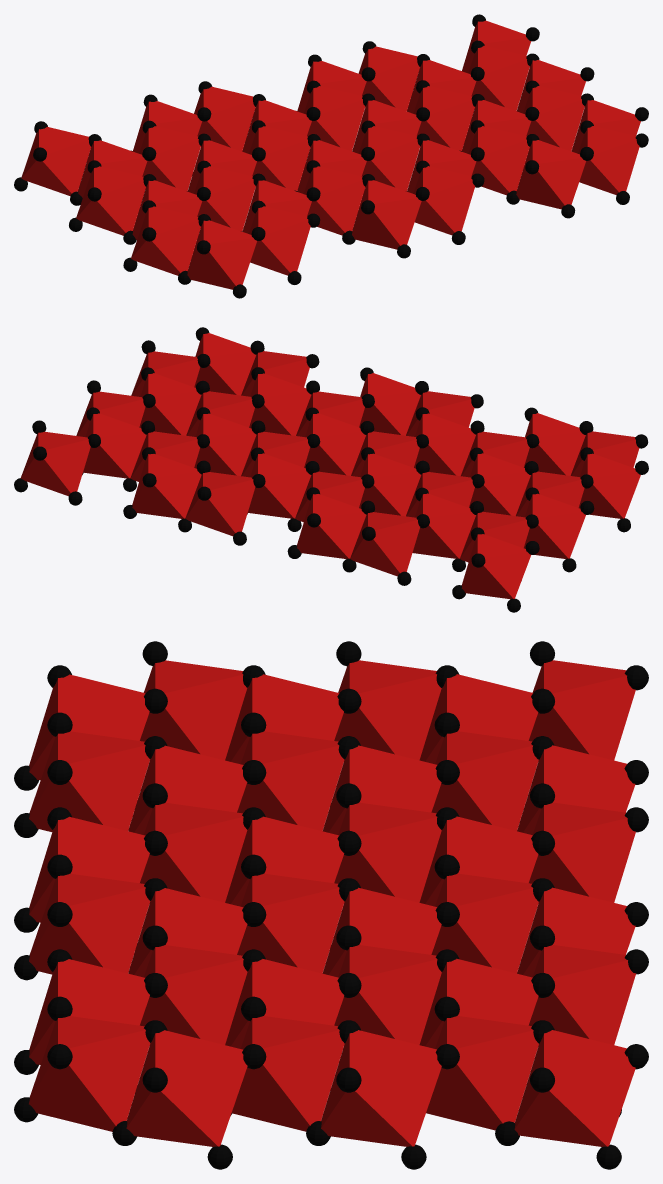
The model's file is Gibbsita.obj.
3 renders of one model, top to bottom at view 1: azimuth 30°, elevation 25°; view 2: azimuth 150°, elevation 25°; view 3: azimuth 270°, elevation 25°, orthographic. The views are drawn at different scales.
Visible parts, largest first — view 1: Gibbsita_Solid.585, Folha_hidroxila_2.001_Sphere.049, Folha_hidroxila_2.002_Sphere.050; view 2: Gibbsita_Solid.585, Folha_hidroxila_2.001_Sphere.049, Folha_hidroxila_2.002_Sphere.050; view 3: Gibbsita_Solid.585, Folha_hidroxila_2.001_Sphere.049, Folha_hidroxila_2.002_Sphere.050.
Boxes of the visible parts, <box> form: Gibbsita_Solid.585: <box>21,20,640,289</box>; Folha_hidroxila_2.001_Sphere.049: <box>33,14,648,254</box>; Folha_hidroxila_2.002_Sphere.050: <box>14,150,629,298</box>; Gibbsita_Solid.585: <box>20,333,640,599</box>; Folha_hidroxila_2.001_Sphere.049: <box>32,327,648,567</box>; Folha_hidroxila_2.002_Sphere.050: <box>14,472,630,612</box>; Gibbsita_Solid.585: <box>29,660,636,1146</box>; Folha_hidroxila_2.001_Sphere.049: <box>47,641,648,1092</box>; Folha_hidroxila_2.002_Sphere.050: <box>14,765,621,1169</box>.
Bounding box in the file's own units: 1.3 × 0.1396 × 0.8002.
